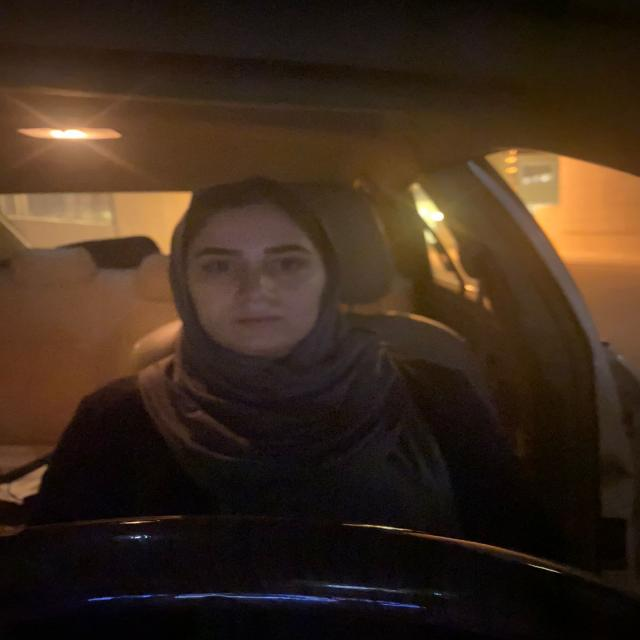person: (189, 202, 331, 355)
